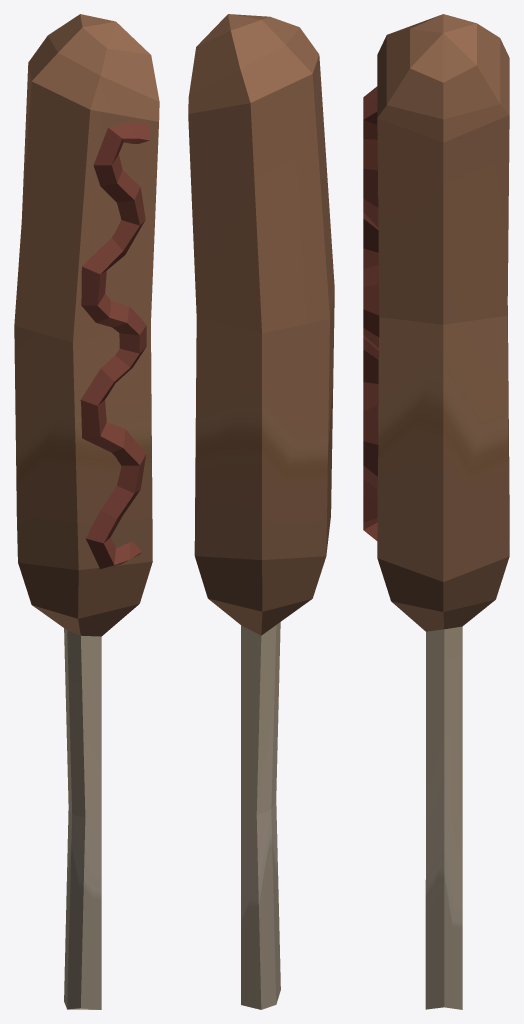
The model's file is hotdog.glb.
The picture shows the model from 3 angles, left to right: view 1: azimuth 30°, elevation 25°; view 2: azimuth 150°, elevation 25°; view 3: azimuth 270°, elevation 25°; orthographic projection.
Visible parts, largest first — view 1: SM_Prop_Hotdog_01; view 2: SM_Prop_Hotdog_01; view 3: SM_Prop_Hotdog_01.
Boxes of the visible parts, bbox=[...] form: SM_Prop_Hotdog_01: bbox=[14, 14, 159, 1009]; SM_Prop_Hotdog_01: bbox=[188, 14, 334, 1009]; SM_Prop_Hotdog_01: bbox=[363, 14, 509, 1009].
Size of the model in its own units: 6.36 by 42.77 by 5.73.
1 material, 1 textured.
